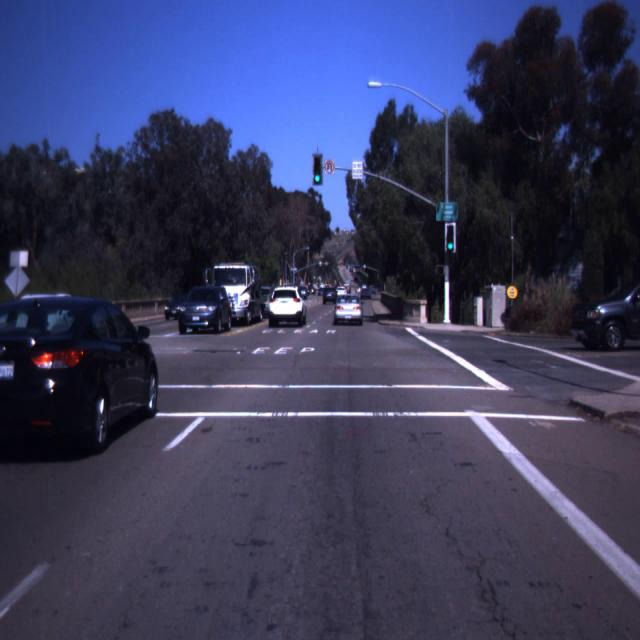go: (444, 227, 456, 251), (312, 157, 322, 184)
go traffic light: (444, 227, 456, 251), (312, 157, 322, 184)
